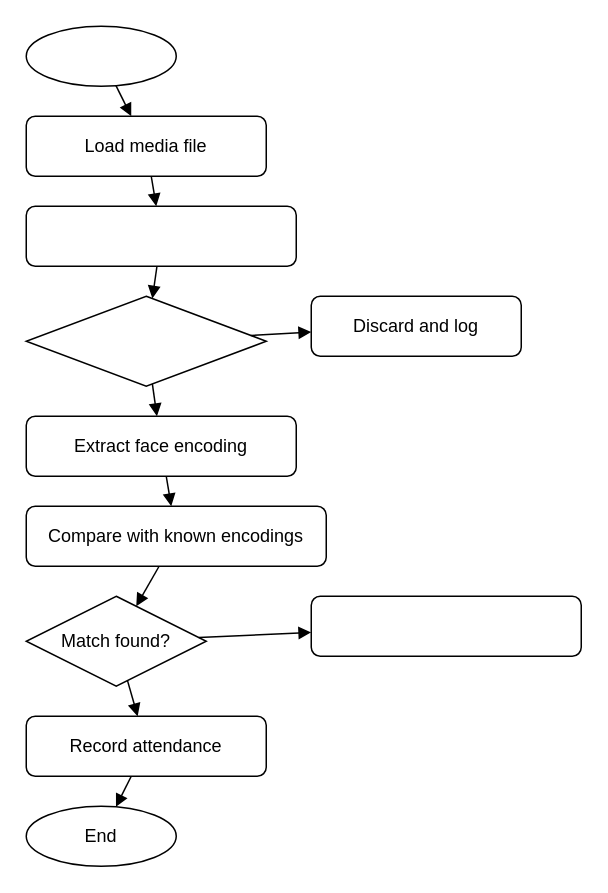
Some shapes in this 608 by 893 pixel diagram are drawn without their labels. Each missing label, with the box of its shape:
Detect face using OpenCV: (25, 205, 296, 266)
Is it a real person?: (25, 295, 266, 386)
Log unrecognized face: (310, 595, 581, 656)
Start: (25, 25, 176, 86)
